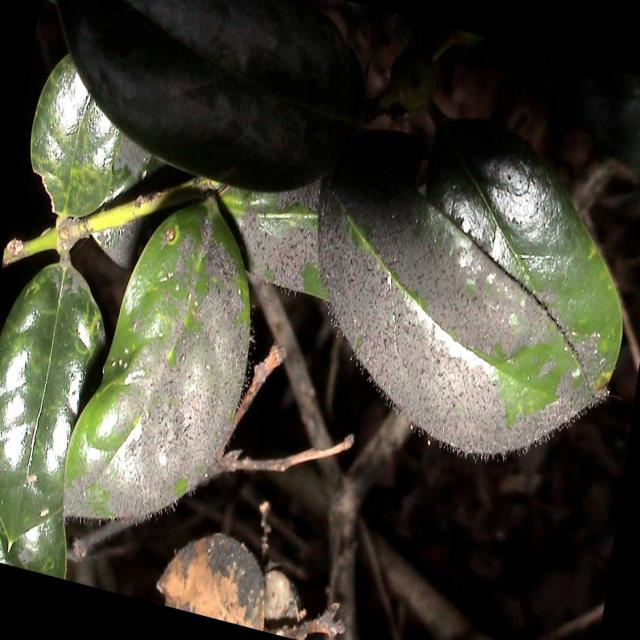Sooty Mold: (316, 116, 624, 461), (56, 0, 367, 193)
